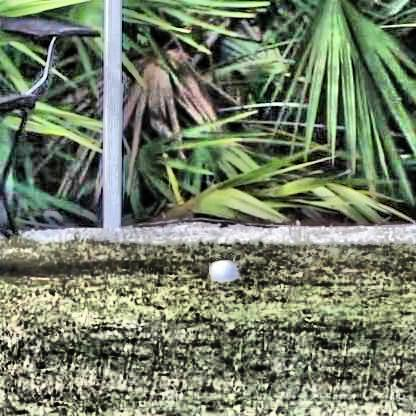golfball: (207, 257, 237, 283)
